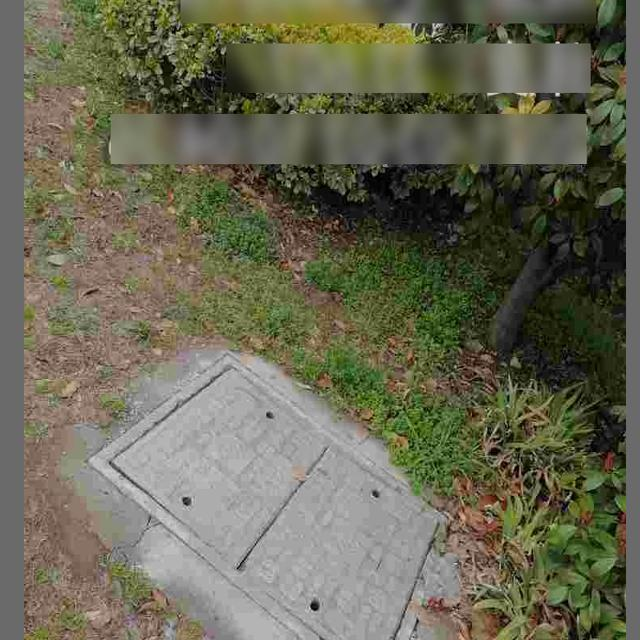good: (90, 353, 461, 640)
